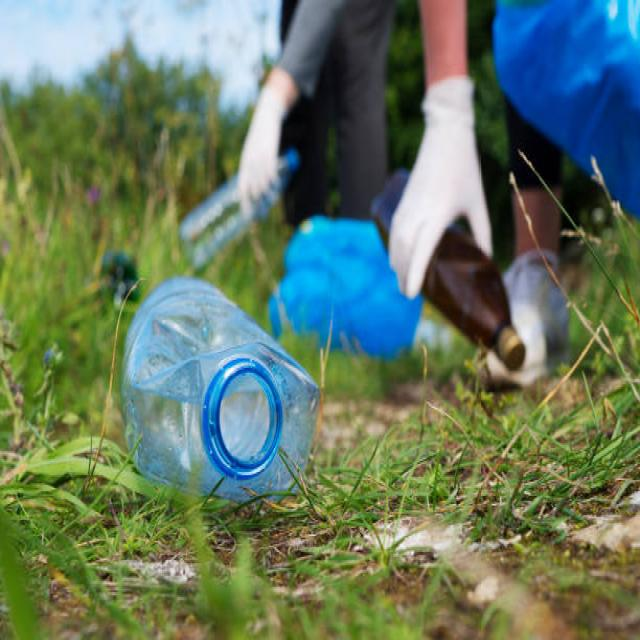plastic: (118, 285, 320, 505)
